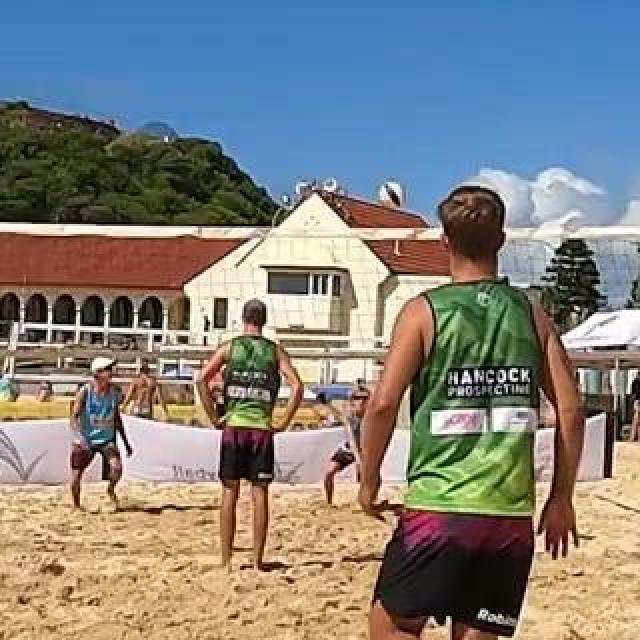volleyball: (376, 180, 406, 210)
